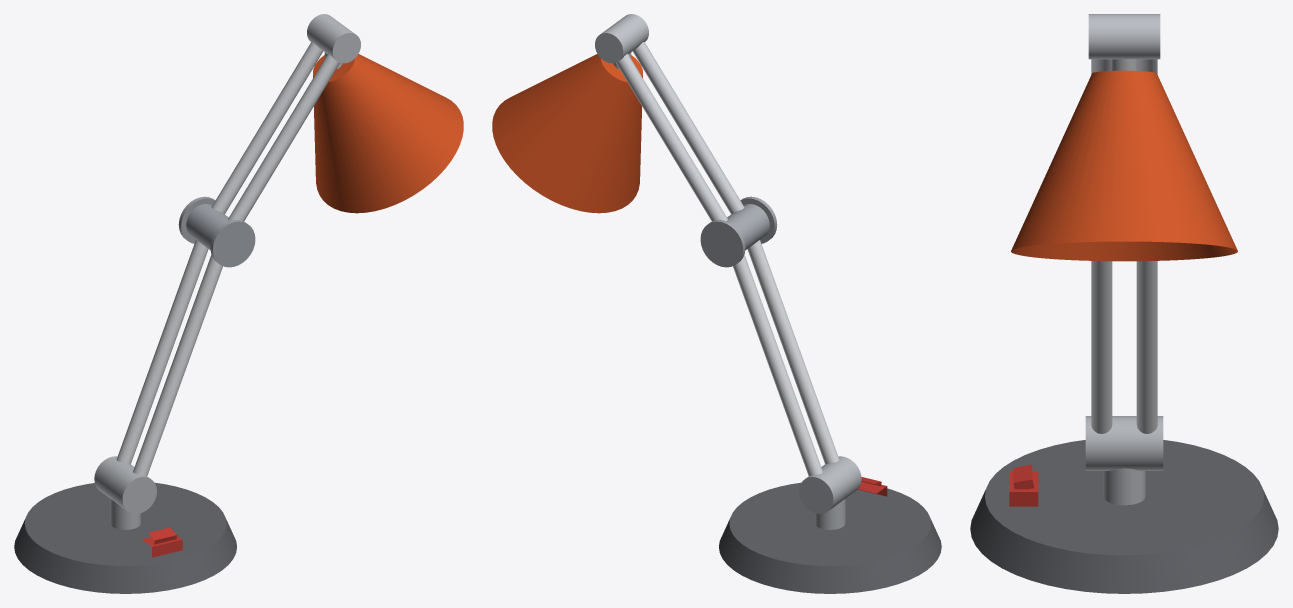
Rendered from demo-assembly.glb.
The picture shows the model from 3 angles, left to right: view 1: azimuth 30°, elevation 25°; view 2: azimuth 150°, elevation 25°; view 3: azimuth 270°, elevation 25°; orthographic projection. The views are drawn at different scales.
Parts seen in each view (by area): view 1: Shade, Base, Lower arm, Upper arm, Elbow joint, Base joint, Head joint, Power switch; view 2: Base, Shade, Lower arm, Upper arm, Elbow joint, Base joint, Head joint; view 3: Base, Shade, Lower arm, Base joint, Head joint, Power switch, Upper arm.
Boxes of the visible parts, bbox=[...] form: Shade: bbox=[313, 54, 463, 213]; Base: bbox=[14, 482, 236, 593]; Lower arm: bbox=[116, 240, 222, 476]; Upper arm: bbox=[211, 42, 339, 221]; Elbow joint: bbox=[178, 196, 255, 267]; Base joint: bbox=[94, 456, 156, 529]; Head joint: bbox=[307, 14, 360, 68]; Power switch: bbox=[142, 527, 182, 557]; Base: bbox=[719, 482, 941, 593]; Shade: bbox=[492, 54, 642, 213]; Lower arm: bbox=[733, 240, 839, 476]; Upper arm: bbox=[616, 42, 744, 221]; Elbow joint: bbox=[700, 196, 777, 267]; Base joint: bbox=[799, 456, 861, 529]; Head joint: bbox=[595, 14, 648, 68]; Base: bbox=[970, 440, 1278, 593]; Shade: bbox=[1011, 70, 1237, 261]; Lower arm: bbox=[1091, 261, 1157, 433]; Base joint: bbox=[1085, 416, 1163, 505]; Head joint: bbox=[1088, 14, 1160, 70]; Power switch: bbox=[1009, 464, 1038, 506]; Upper arm: bbox=[1091, 59, 1157, 74].
Size of the model in its own units: 0.4156 by 0.444 by 0.19.
